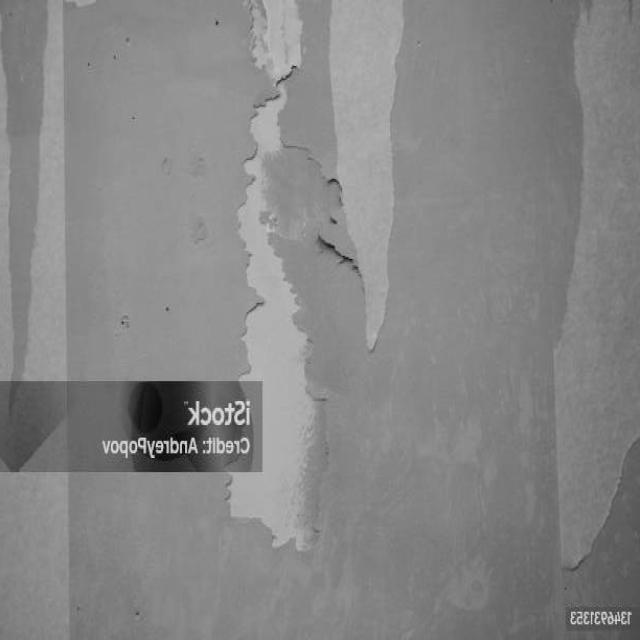peeling paint: (212, 0, 414, 560), (0, 0, 96, 640), (545, 0, 640, 601)
